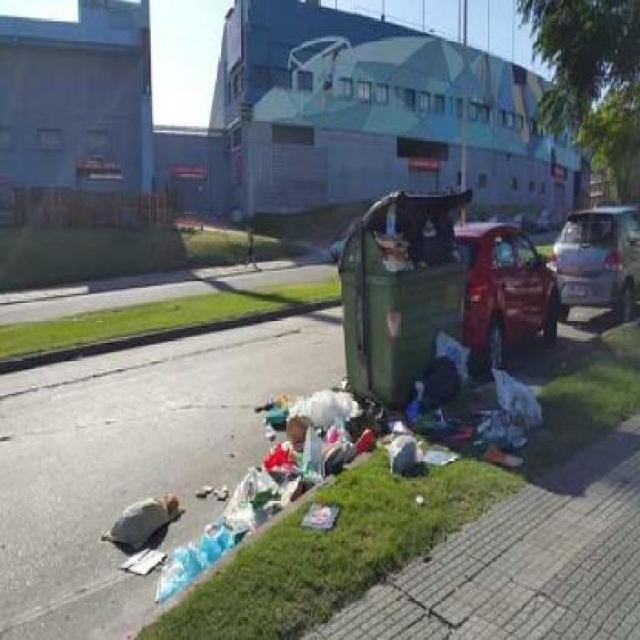garbage: (259, 394, 419, 460), (102, 456, 190, 547), (228, 460, 347, 521), (480, 360, 538, 472), (372, 202, 464, 266), (339, 363, 386, 442), (175, 519, 240, 574), (409, 339, 451, 416), (116, 534, 177, 570), (145, 539, 181, 594)
